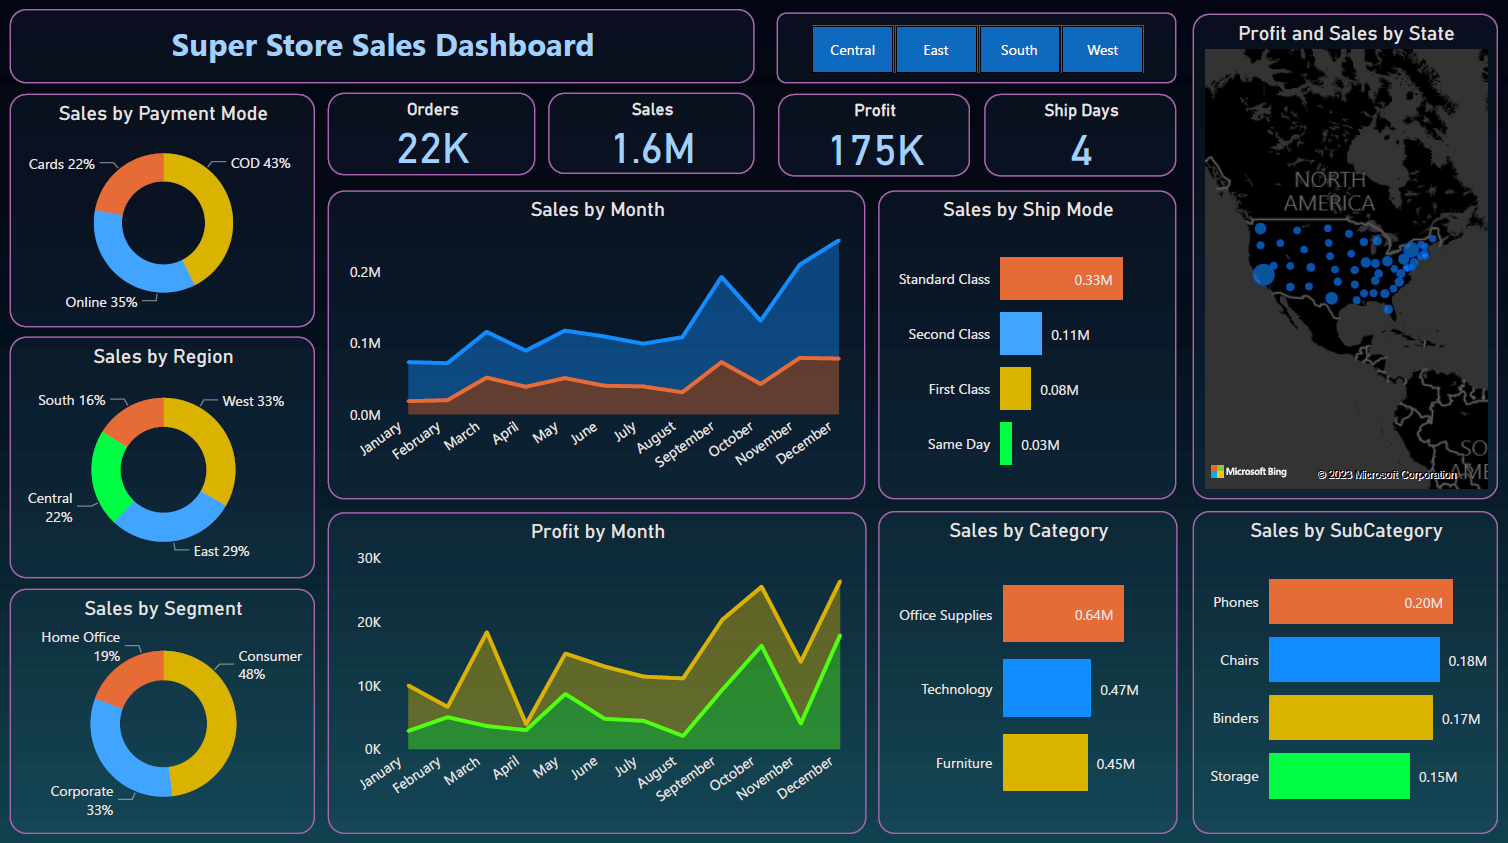

This screenshot's page, from the dashboard's own definition file:
{"tool":"powerbi","page":{"name":"SuperStore","canvas":[1280,720],"ordinal":0},"visuals":[{"type":"clusteredBarChart","title":"Sales by Category","fields":{"Category":["SuperStore_Sales.Category"],"Y":["Sum(SuperStore_Sales.Sales)"]},"box":[745,436.7,253.9,266.5],"z":0},{"type":"clusteredBarChart","title":"Sales by SubCategory","fields":{"Y":["Sum(SuperStore_Sales.Sales)"],"Category":["SuperStore_Sales.Sub-Category"]},"box":[1011.6,436.7,259.7,266.5],"z":1000},{"type":"clusteredBarChart","title":"Sales by Ship Mode","fields":{"Y":["Sum(SuperStore_Sales.Sales)"],"Category":["SuperStore_Sales.Ship Mode"]},"box":[745,164.4,253.9,261.6],"z":2000},{"type":"stackedAreaChart","title":"Sales by Month","fields":{"Y":["Sum(SuperStore_Sales.Sales)"],"Series":["SuperStore_Sales.Order Date.Variation.Date Hierarchy.Year"],"Category":["SuperStore_Sales.Order Date.Variation.Date Hierarchy.Month"]},"box":[278.2,164.4,456.2,261.6],"z":3000},{"type":"stackedAreaChart","title":"Profit by Month","fields":{"Series":["SuperStore_Sales.Order Date.Variation.Date Hierarchy.Year"],"Category":["SuperStore_Sales.Order Date.Variation.Date Hierarchy.Month"],"Y":["Sum(SuperStore_Sales.Profit)"]},"box":[278.2,437.7,456.2,266.5],"z":4000},{"type":"map","title":"Profit and Sales by State","fields":{"Category":["SuperStore_Sales.State"],"Size":["Sum(SuperStore_Sales.Sales)"]},"box":[1011.6,13.6,259.7,412.4],"z":5000},{"type":"donutChart","title":"Sales by Segment","fields":{"Category":["SuperStore_Sales.Segment"],"Y":["Sum(SuperStore_Sales.Sales)"]},"box":[7.8,501.9,259.7,202.3],"z":6000},{"type":"donutChart","title":"Sales by Payment Mode","fields":{"Y":["Sum(SuperStore_Sales.Sales)"],"Category":["SuperStore_Sales.Payment Mode"]},"box":[7.8,81.7,259.7,198.4],"z":7000},{"type":"slicer","fields":{"Values":["SuperStore_Sales.Region"]},"box":[659.5,12.6,338.5,60.3],"z":8000},{"type":"textbox","box":[7.8,9.7,619.6,63.2],"z":9000},{"type":"card","title":"Sales","fields":{"Values":["Sum(SuperStore_Sales.Sales)"]},"box":[469.8,81.7,157.6,69.1],"z":10000},{"type":"card","title":"Orders","fields":{"Values":["Sum(SuperStore_Sales.Quantity)"]},"box":[278.2,80.7,157.6,70],"z":11000},{"type":"card","title":"Profit","fields":{"Values":["Sum(SuperStore_Sales.Profit)"]},"box":[659.5,81.7,149.8,70],"z":12000},{"type":"card","title":"Ship Days","fields":{"Values":["Avg(SuperStore_Sales.AvgDelivery)"]},"box":[849.1,81.7,149.8,70],"z":13000},{"type":"donutChart","title":"Sales by Payment Mode","fields":{"Y":["Sum(SuperStore_Sales.Sales)"],"Category":["SuperStore_Sales.Region"]},"box":[7.8,287.9,259.7,205.2],"z":14000}]}

Visuals, with their boxes in screenshot pixels (x1, y1, x2, y2), scaled from the page's 1280x720 canvas onto the 1508x843 screenshot:
"Sales by Category" clusteredBarChart: select_region(878, 511, 1177, 823)
"Sales by SubCategory" clusteredBarChart: select_region(1192, 511, 1498, 823)
"Sales by Ship Mode" clusteredBarChart: select_region(878, 192, 1177, 499)
"Sales by Month" stackedAreaChart: select_region(328, 192, 865, 499)
"Profit by Month" stackedAreaChart: select_region(328, 512, 865, 825)
"Profit and Sales by State" map: select_region(1192, 16, 1498, 499)
"Sales by Segment" donutChart: select_region(9, 588, 315, 825)
"Sales by Payment Mode" donutChart: select_region(9, 96, 315, 328)
slicer - SuperStore_Sales.Region: select_region(777, 15, 1176, 85)
textbox: select_region(9, 11, 739, 85)
"Sales" card: select_region(553, 96, 739, 177)
"Orders" card: select_region(328, 94, 513, 176)
"Profit" card: select_region(777, 96, 953, 178)
"Ship Days" card: select_region(1000, 96, 1177, 178)
"Sales by Payment Mode" donutChart: select_region(9, 337, 315, 577)
